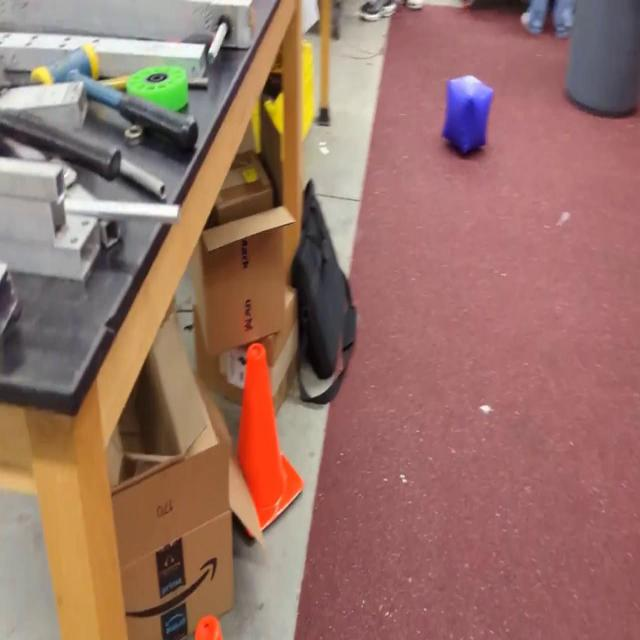frc_cube: (441, 74, 495, 154)
